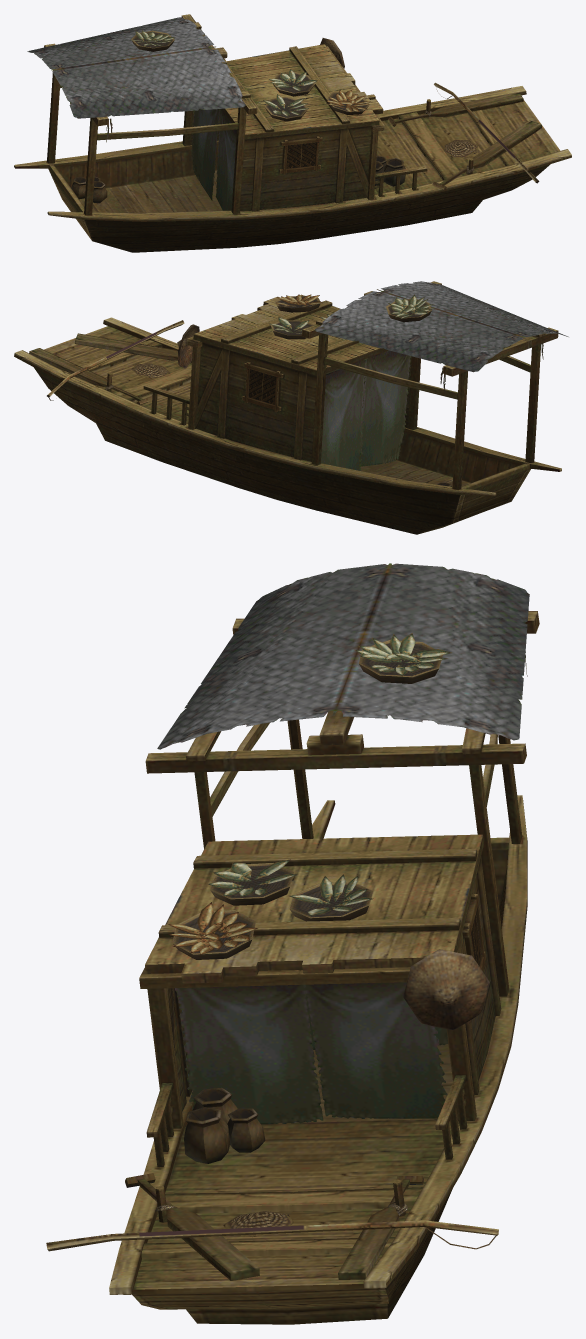
File: 7001_Item_chuan_1.FBX
The picture shows the model from 3 angles, top to bottom: view 1: azimuth 30°, elevation 25°; view 2: azimuth 150°, elevation 25°; view 3: azimuth 270°, elevation 25°; orthographic projection. The views are drawn at different scales.
Parts seen in each view (by area): view 1: 7001_Item_chuan_1; view 2: 7001_Item_chuan_1; view 3: 7001_Item_chuan_1.
Part boxes in pixels (left/top/right/bottom): 7001_Item_chuan_1: left=14, top=14, right=571, bottom=252; 7001_Item_chuan_1: left=14, top=281, right=568, bottom=534; 7001_Item_chuan_1: left=46, top=563, right=539, bottom=1324.
Bounding box in the file's own units: 1734 × 697 × 758.
Materials: 2 (2 with a texture image).
